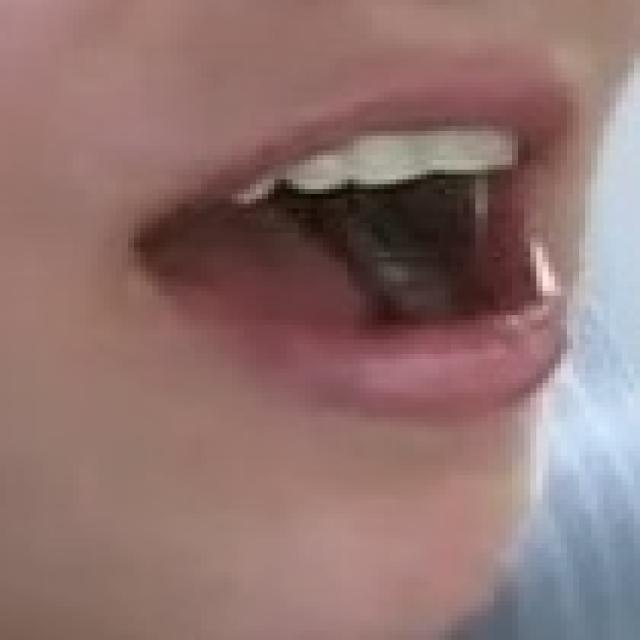open-mouth: (122, 63, 597, 412)
